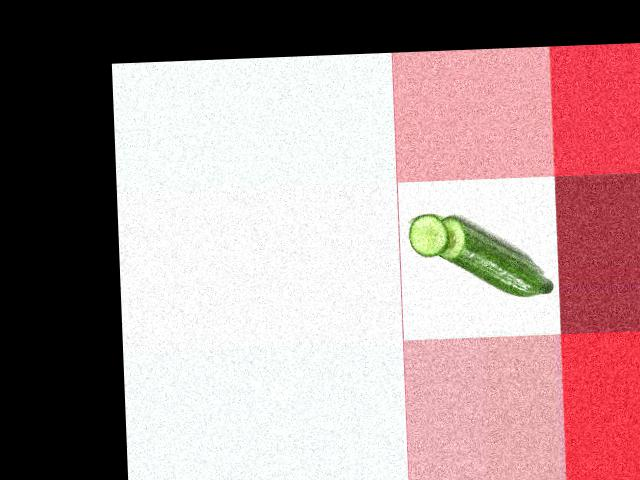cucumber: (435, 212, 553, 299)
